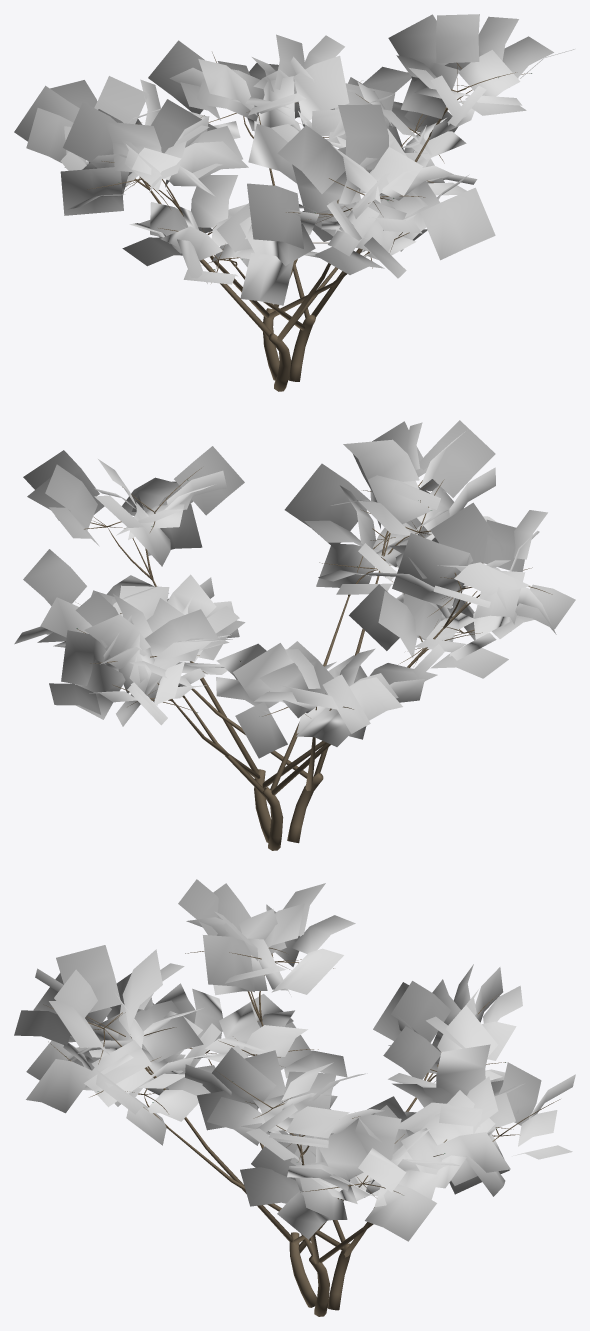
The model's file is V7_Genevrier_0_Niveau1.fbx.
3 views of the same model, one above another, from view 1: azimuth 30°, elevation 25°; view 2: azimuth 150°, elevation 25°; view 3: azimuth 270°, elevation 25° (orthographic).
Parts seen in each view (by area): view 1: V7_Genevrier_0_Detail1; view 2: V7_Genevrier_0_Detail1; view 3: V7_Genevrier_0_Detail1.
Part boxes in pixels (bbox=[...]): V7_Genevrier_0_Detail1: bbox=[14, 14, 574, 391]; V7_Genevrier_0_Detail1: bbox=[14, 420, 575, 850]; V7_Genevrier_0_Detail1: bbox=[14, 879, 575, 1316].
Bounding box in the file's own units: 324 × 206 × 302.
